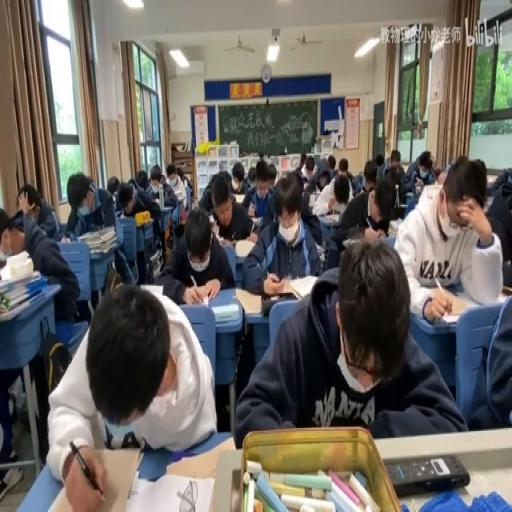calculator: (125, 469, 214, 512), (160, 432, 234, 481), (0, 262, 50, 320), (234, 280, 310, 314), (210, 302, 240, 322), (81, 206, 102, 233), (190, 288, 218, 306), (234, 238, 256, 258), (138, 283, 164, 296), (438, 308, 462, 322), (148, 248, 161, 273), (318, 212, 340, 225), (308, 189, 320, 212), (314, 242, 326, 263), (403, 189, 416, 206), (387, 218, 399, 234), (482, 195, 492, 212), (414, 176, 423, 194), (210, 218, 219, 236), (342, 238, 362, 246), (219, 238, 235, 248), (153, 194, 164, 208), (250, 215, 262, 226), (232, 193, 246, 202)
paper: (237, 240, 461, 442), (50, 279, 216, 492), (394, 153, 502, 313), (242, 174, 322, 294), (463, 286, 511, 429), (67, 170, 125, 288), (331, 170, 396, 260), (115, 178, 164, 273), (202, 174, 256, 246), (18, 181, 59, 240), (403, 148, 436, 195), (0, 205, 26, 257), (164, 162, 187, 215), (305, 158, 333, 192), (338, 156, 361, 195), (486, 166, 511, 196), (382, 148, 405, 178), (104, 263, 122, 293), (435, 158, 454, 186), (362, 160, 378, 190), (117, 189, 133, 213), (266, 161, 278, 189), (230, 164, 244, 188), (134, 168, 148, 190), (106, 175, 119, 196), (146, 182, 160, 199), (150, 166, 162, 185), (296, 152, 306, 174), (246, 166, 257, 185), (295, 171, 308, 186), (475, 158, 485, 173), (327, 155, 336, 171), (374, 154, 383, 168), (182, 175, 191, 188), (128, 175, 135, 189), (429, 156, 435, 170)
person: (384, 454, 470, 496), (394, 202, 406, 219), (500, 284, 510, 298)
